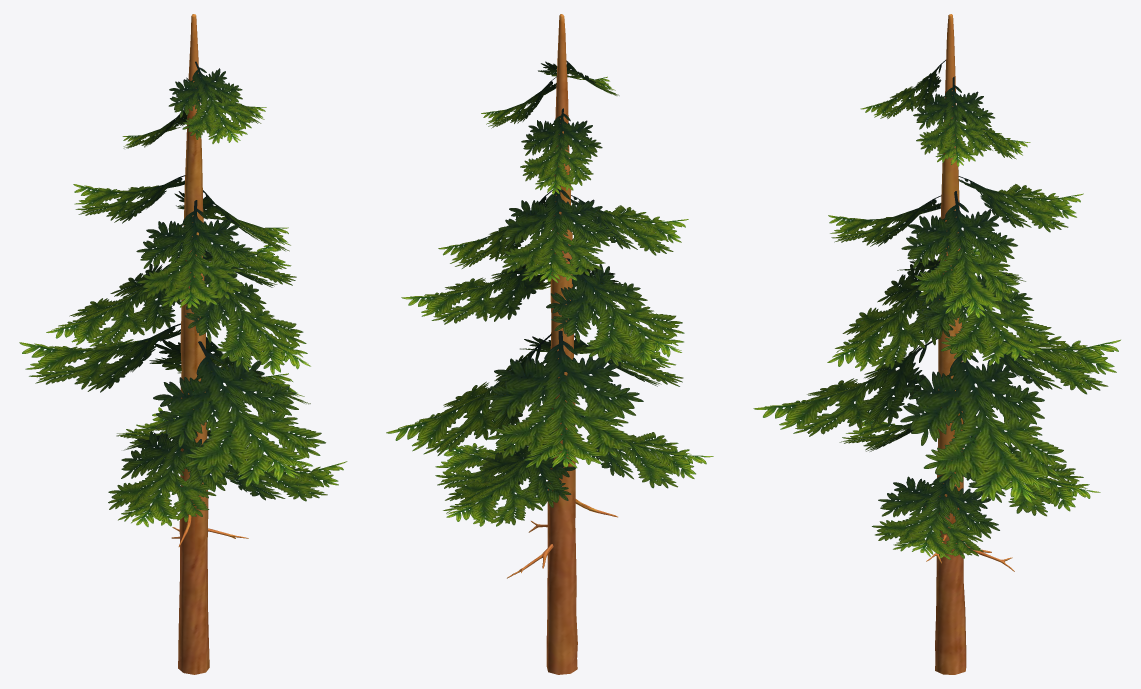
The model's file is small_stylized_pine_var3.glb.
3 renders of one model, left to right at view 1: azimuth 30°, elevation 25°; view 2: azimuth 150°, elevation 25°; view 3: azimuth 270°, elevation 25°, orthographic.
Visible parts, largest first — view 1: small_stylized_pine_var3; view 2: small_stylized_pine_var3; view 3: small_stylized_pine_var3.
Boxes of the visible parts, x1=… form: small_stylized_pine_var3: x1=19, y1=14, x2=347, y2=674; small_stylized_pine_var3: x1=386, y1=14, x2=713, y2=674; small_stylized_pine_var3: x1=753, y1=14, x2=1120, y2=674.
Bounding box in the file's own units: 375 × 832 × 437.
2 materials, 2 textured.
